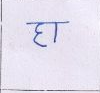aa_matra: (54, 24, 58, 42)
